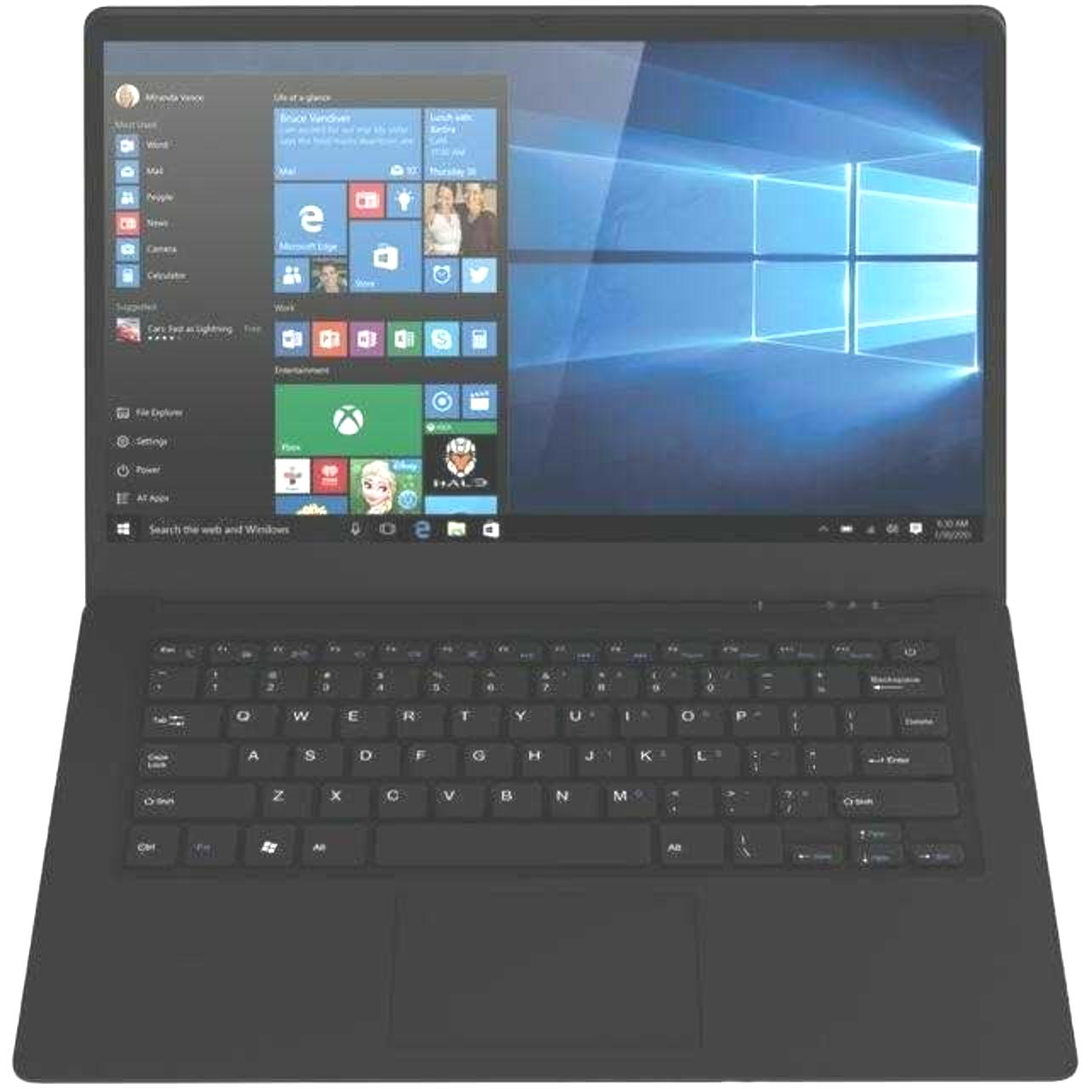laptop: (69, 23, 1075, 1080)
